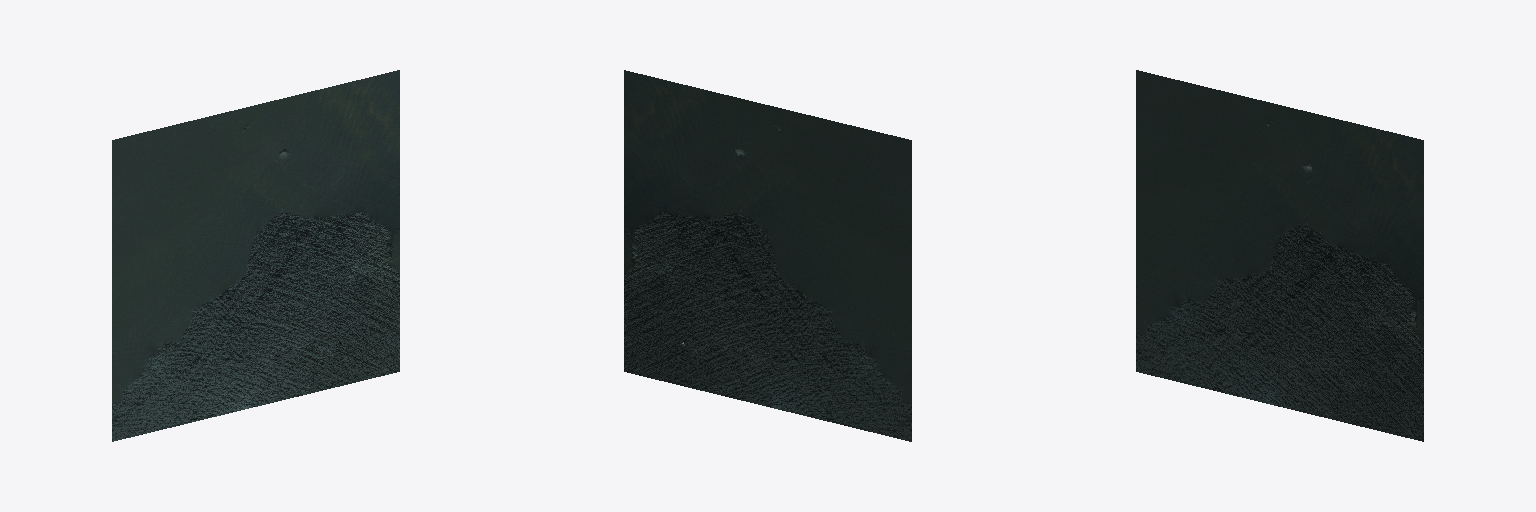
3 renders of one model, left to right at view 1: azimuth 30°, elevation 25°; view 2: azimuth 150°, elevation 25°; view 3: azimuth 330°, elevation 25°, orthographic.
Bounding box in the file's own units: 252 × 252 × 5.58.
Materials: 2 (1 with a texture image).